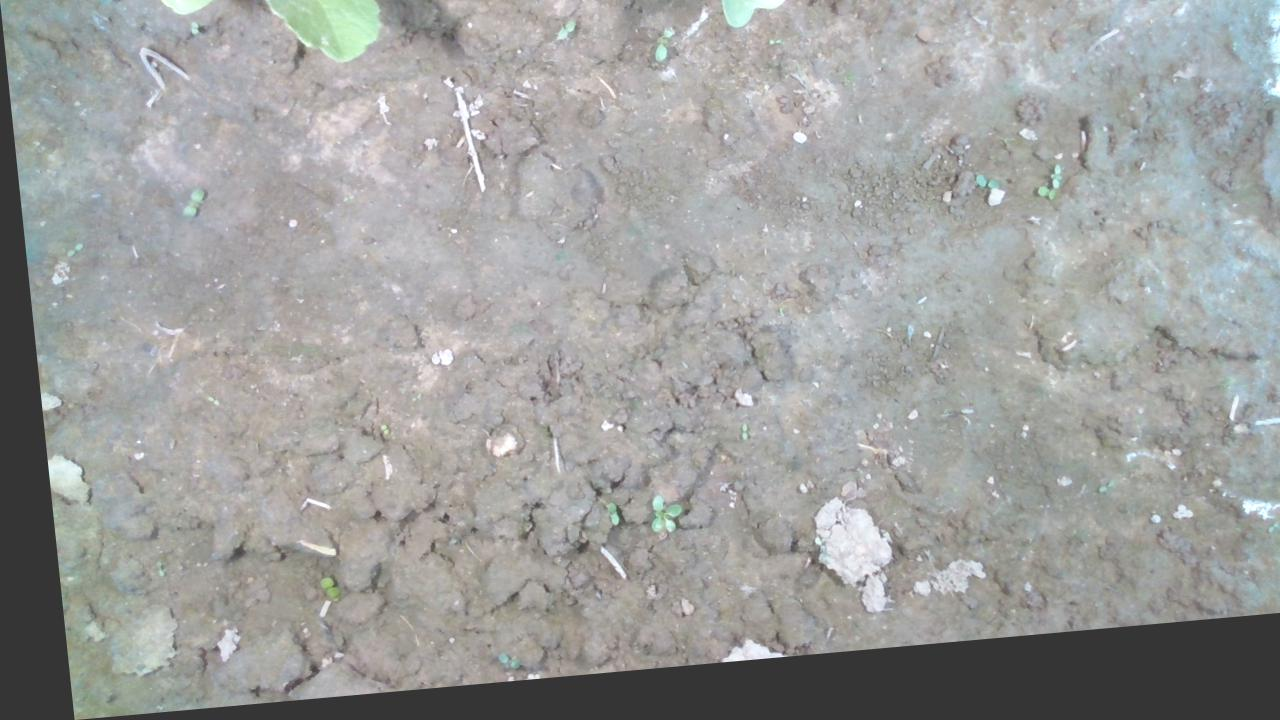weed: (635, 502, 668, 545), (169, 185, 196, 223), (966, 186, 998, 213), (591, 509, 611, 537), (1080, 493, 1101, 515)
